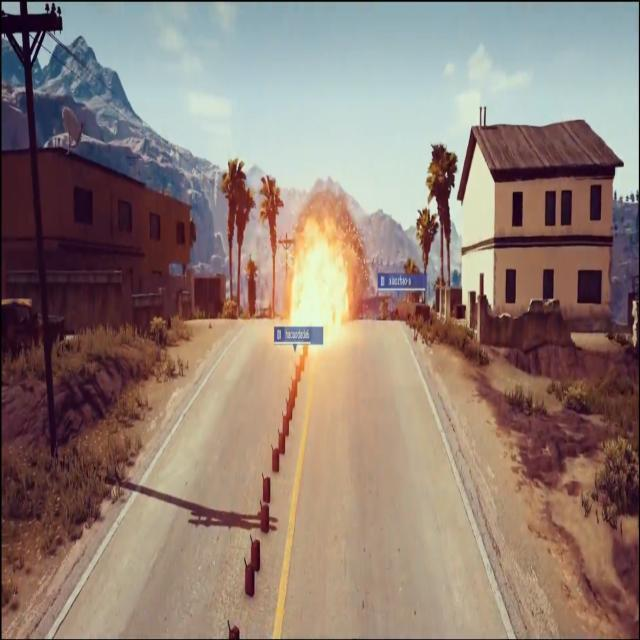fire: (282, 160, 369, 347)
